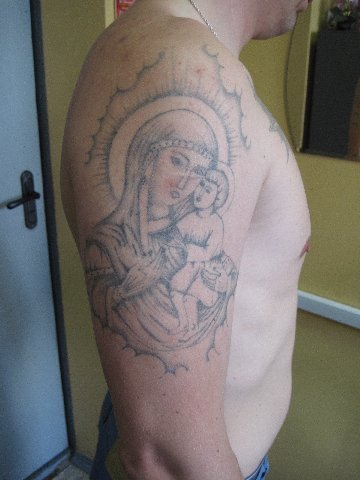tatu2_bogorodica: (92, 78, 239, 369)
